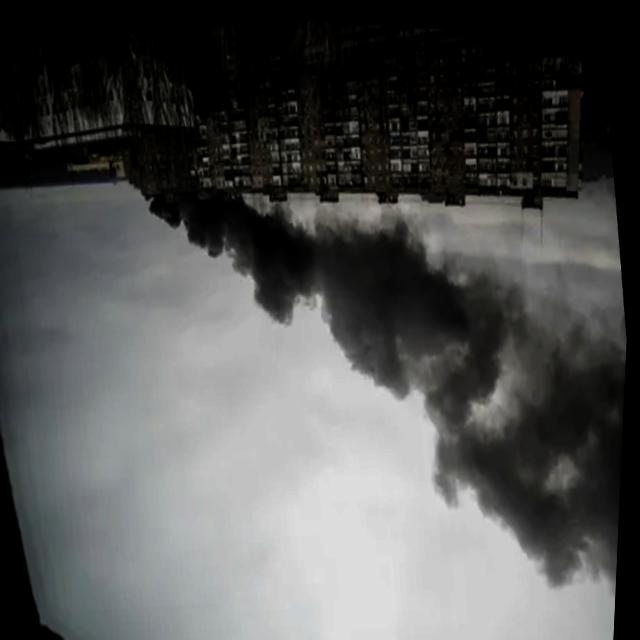Smoke: (141, 155, 493, 413)
